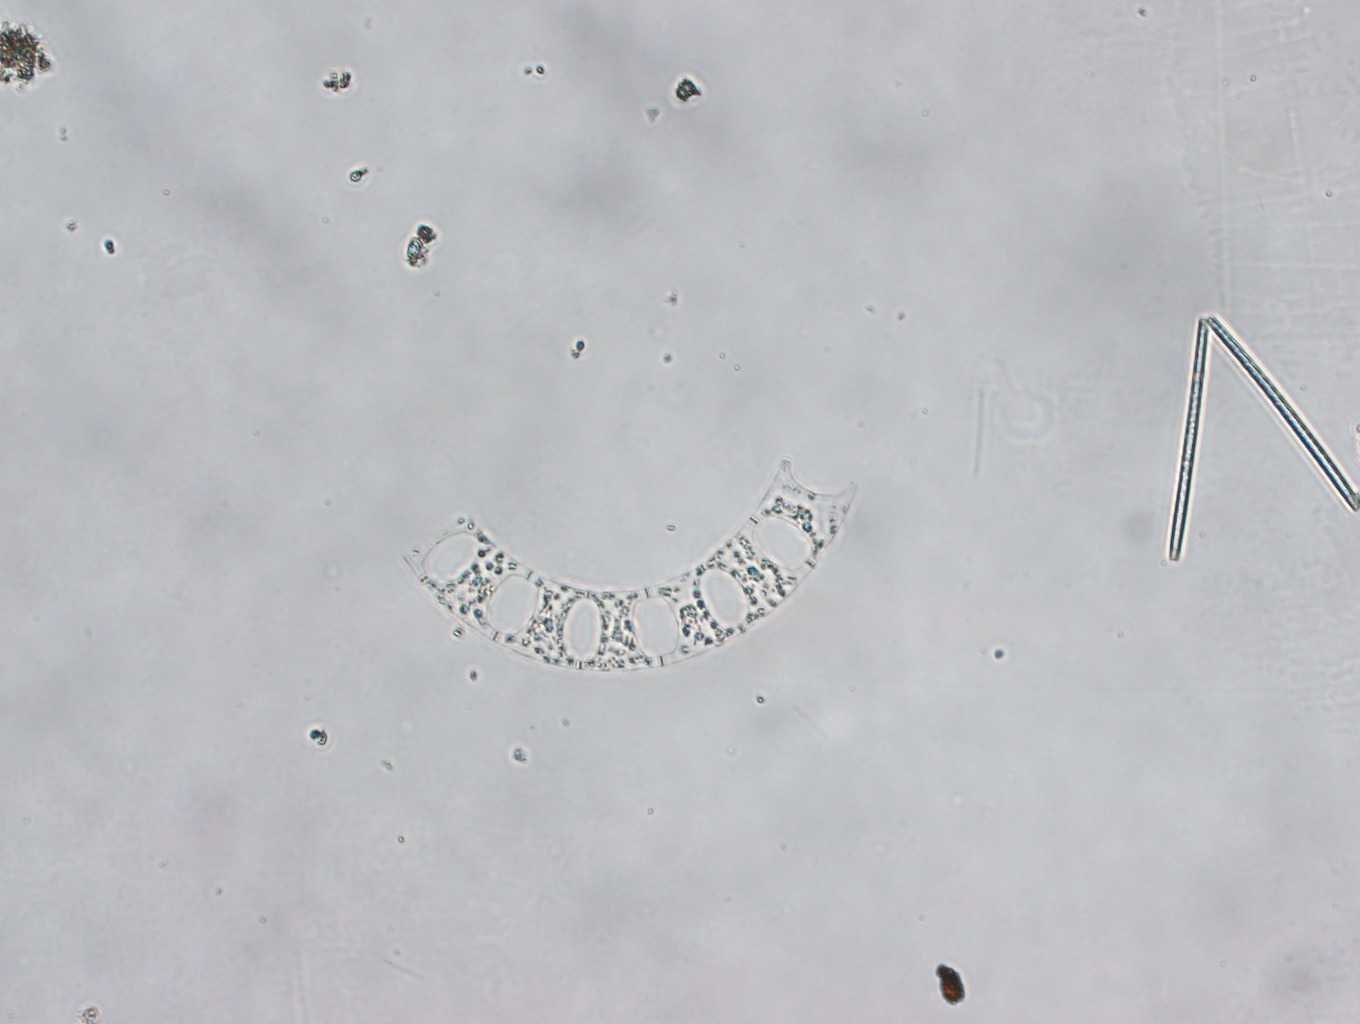eucampia: (401, 456, 859, 675)
thalassionema frauenfeldii: (1163, 312, 1359, 563)
